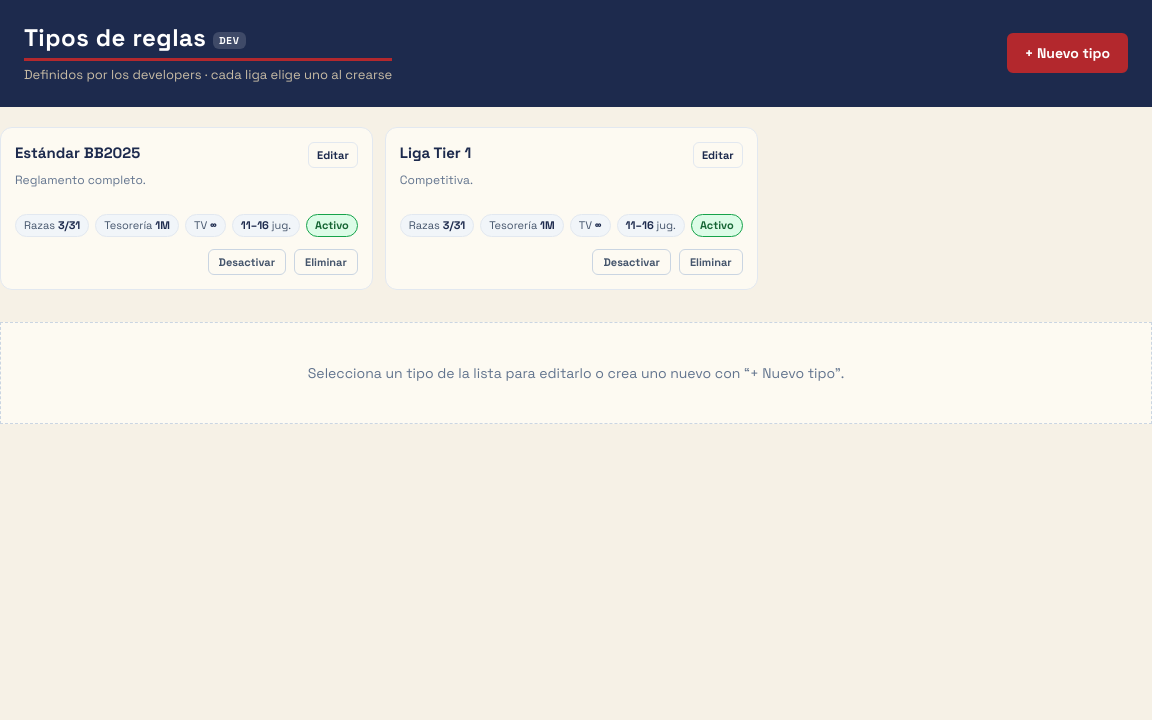
Test: RulesetManager › switching to another card while dirty shows the guard and Descartar loads the new card
Check: the button "Estándar BB2025" is shown, box [15,142,140,164]
Step 1. Click the 1st button "Editar" → point(333, 155), box [308,142,358,168]
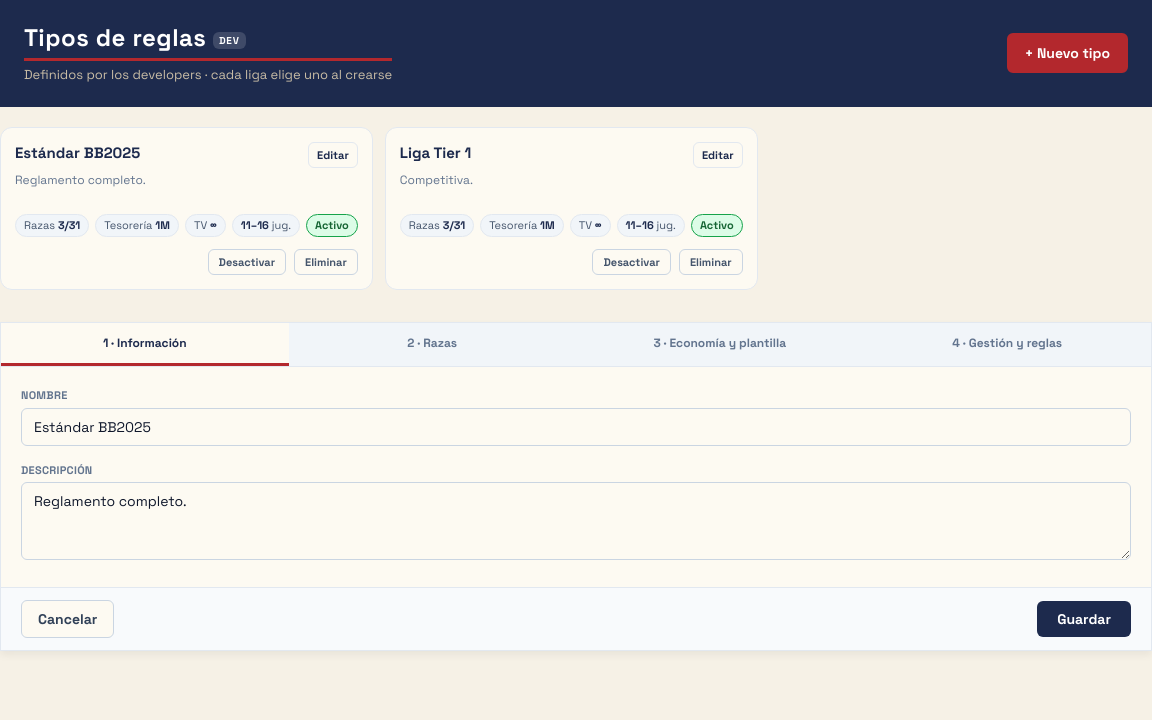
Check: the element named "Configuración del tipo de reglas" is shown, box [1,323,1151,367]
Step 2. Replace the text in the field labelled "Nombre" with "Cambiado" → point(576, 426), box [21,408,1131,446]
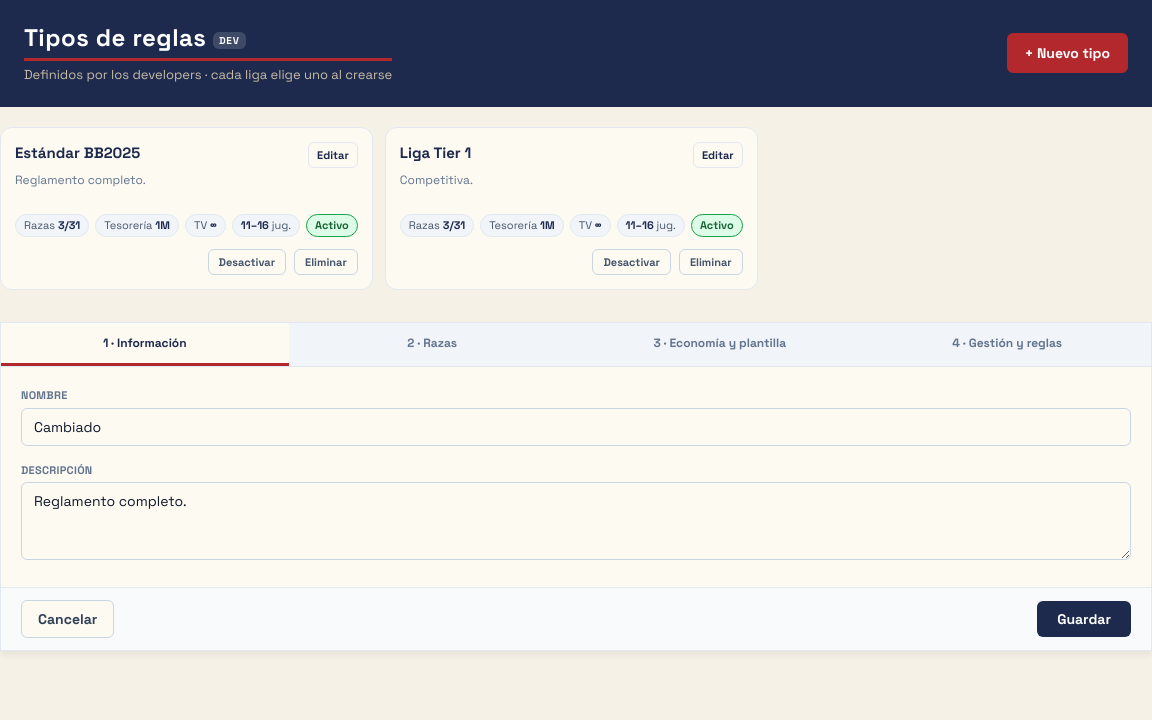
Step 3. Click the 2nd button "Editar" → point(718, 155), box [693,142,743,168]
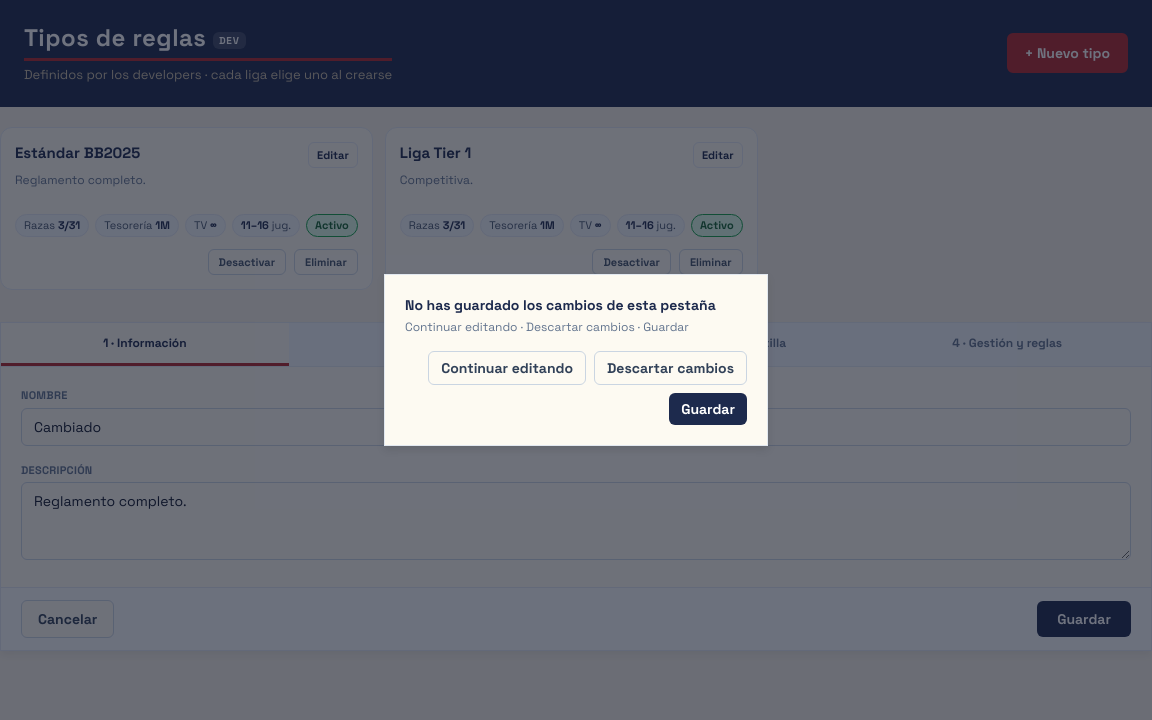
Step 4. Click the button "Descartar cambios" → point(670, 368), box [594,351,747,385]
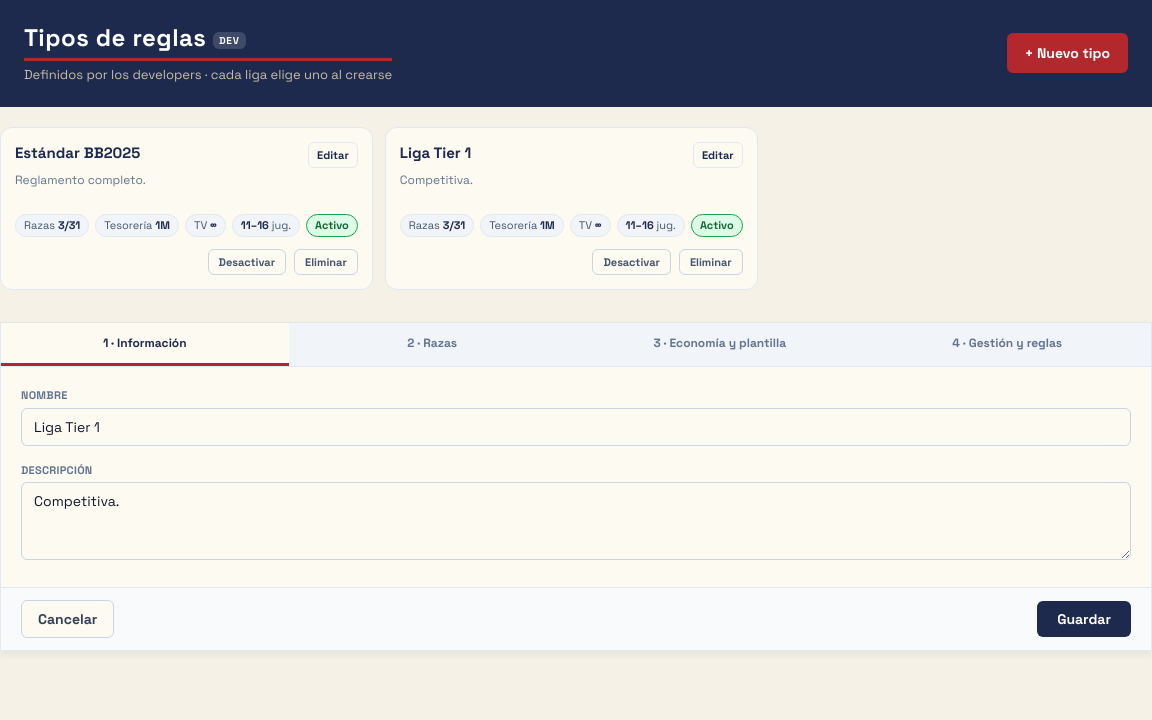
Check: the field labelled "Nombre" holds "Liga Tier 1", box [21,408,1131,446]
